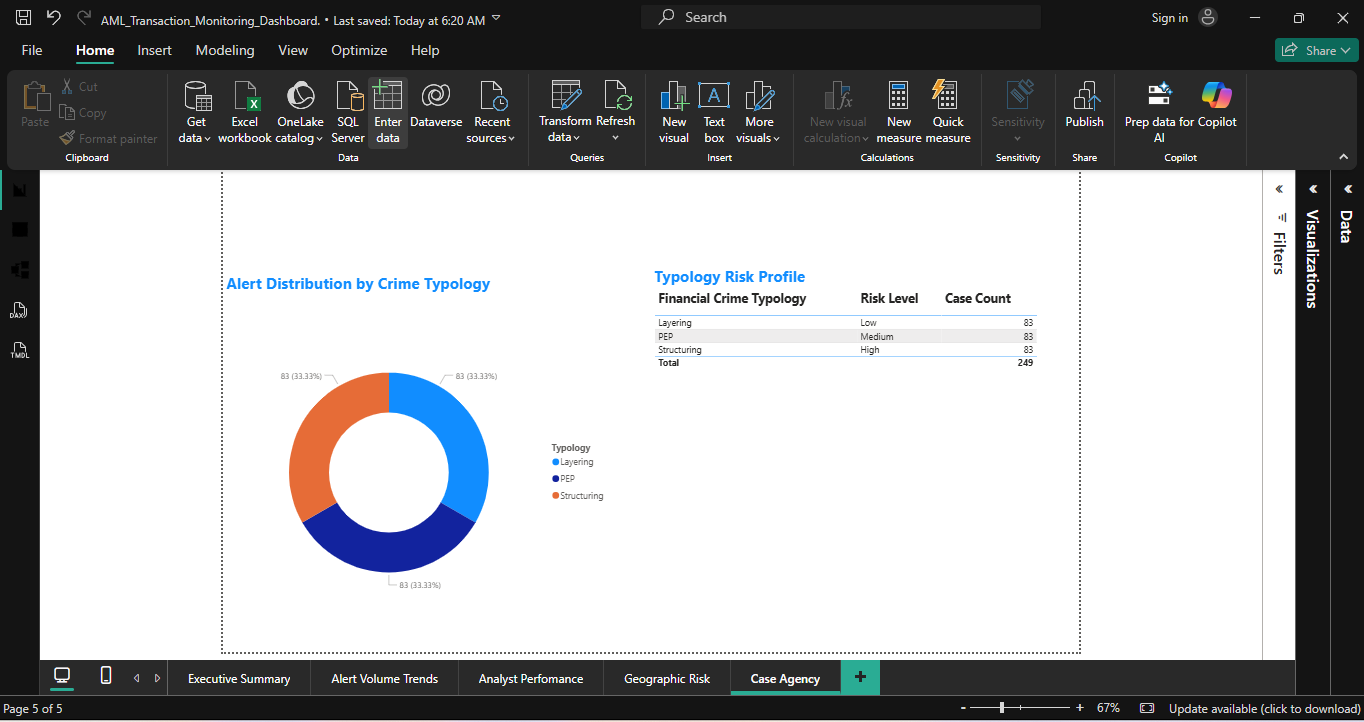

This screenshot's page, from the dashboard's own definition file:
{"tool":"powerbi","page":{"name":"Case Agency","canvas":[1280,720],"ordinal":4},"visuals":[{"type":"donutChart","title":"Alert Distribution by Crime Typology","fields":{"Category":["Alerts.Typology"],"Y":["CountNonNull(Alerts.Total Alerts Flagged)"]},"box":[0,153.9,582.6,566.1],"z":0},{"type":"tableEx","title":"Typology Risk Profile","fields":{"Values":["Alerts.Typology","Alerts.Risk_Level","Alerts.Total Alerts Flagged"]},"box":[639.3,143.4,582.6,576.6],"z":1}]}

Visuals, with their boxes on the page's 1280x720 design canvas (x1, y1, x2, y2). These are canvas units, not pixel positions in the 1364x722 screenshot, which may show the page scaled, cropped or inside an application window:
"Alert Distribution by Crime Typology" donutChart: pyautogui.locateOnScreen(0, 154, 583, 720)
"Typology Risk Profile" tableEx: pyautogui.locateOnScreen(639, 143, 1222, 720)
